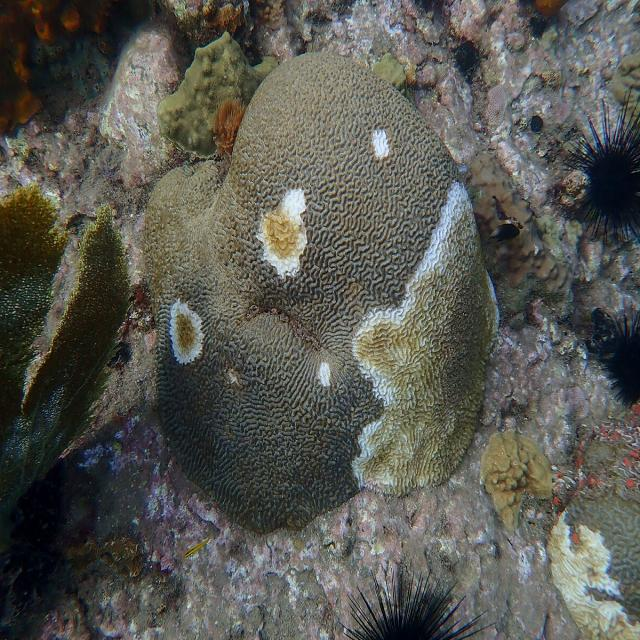Coral: (134, 52, 500, 534), (0, 182, 133, 552), (545, 440, 640, 640), (480, 428, 553, 530)
